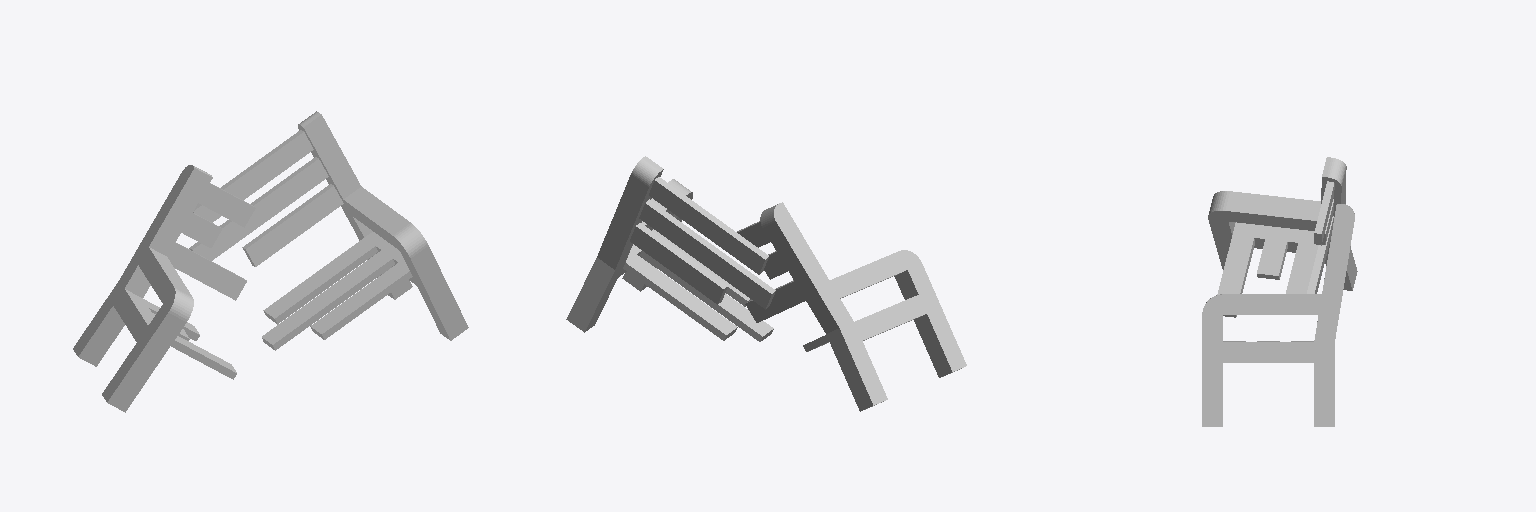
Rendered from benchDamaged.obj.
3 views of the same model, side by side, from view 1: azimuth 30°, elevation 25°; view 2: azimuth 150°, elevation 25°; view 3: azimuth 270°, elevation 25° (orthographic).
Visible parts, largest first — view 1: benchBroken %8angles; view 2: benchBroken %8angles; view 3: benchBroken %8angles.
Part boxes in pixels (x1,y1,x2,y2): benchBroken %8angles: (73, 111, 468, 412); benchBroken %8angles: (566, 156, 966, 411); benchBroken %8angles: (1202, 157, 1357, 426).
Size of the model in its own units: 0.9902 by 0.5319 by 0.3829.